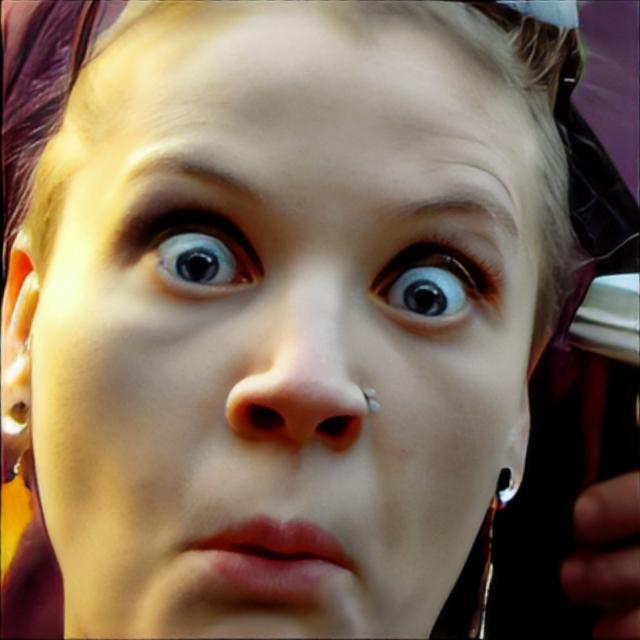fear: (75, 88, 523, 640)
